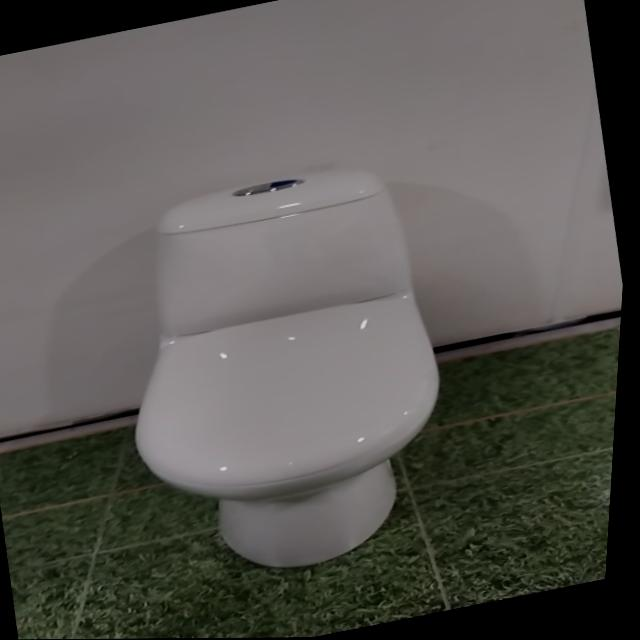toilet: (87, 151, 487, 597)
